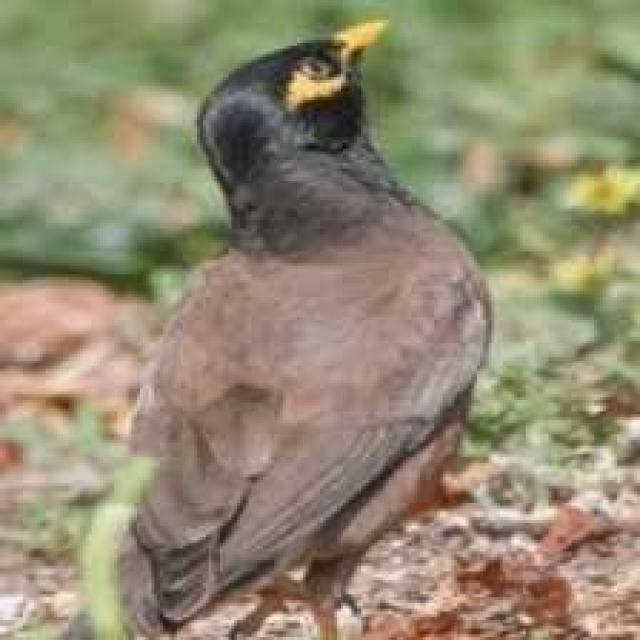bird: (119, 16, 499, 640)
